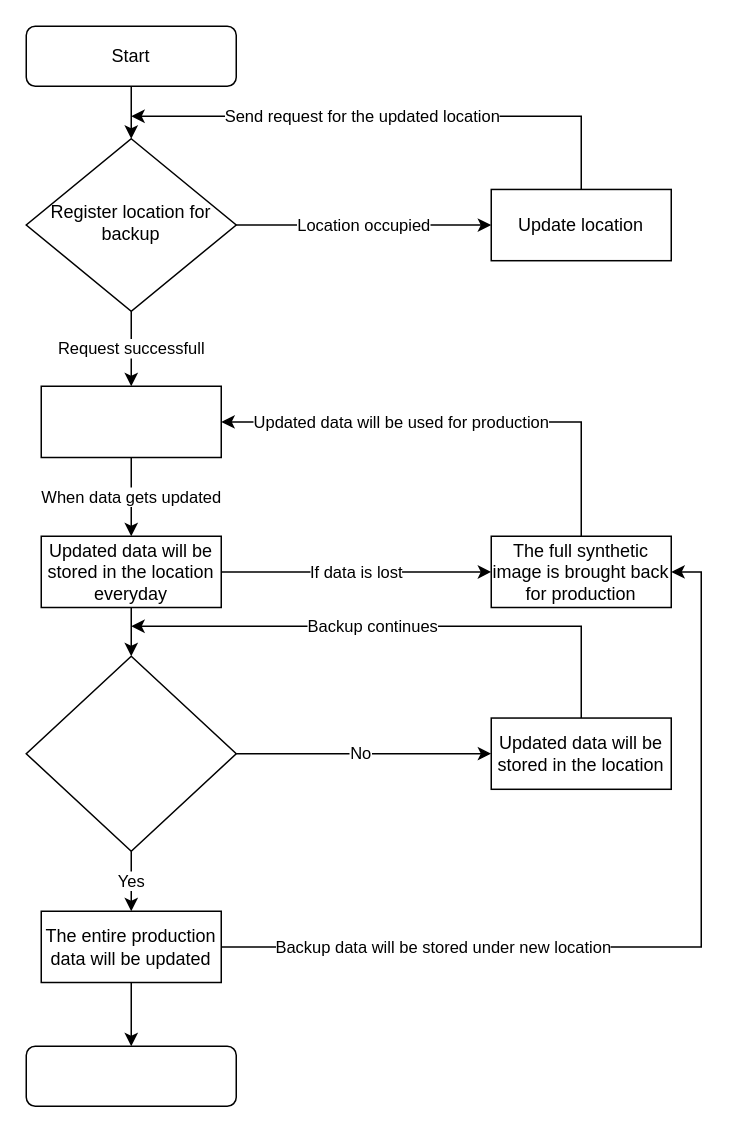
The diagram is 740 pixels wide and 1133 high, and some of its shapes have lost their labels. The box of each missing label's shape, as (x1, y1, x2, y2) in pixels:
Backup carried for one month: (25, 655, 236, 851)
Production data stored in the location: (40, 385, 221, 458)
Stop: (25, 1045, 236, 1106)
